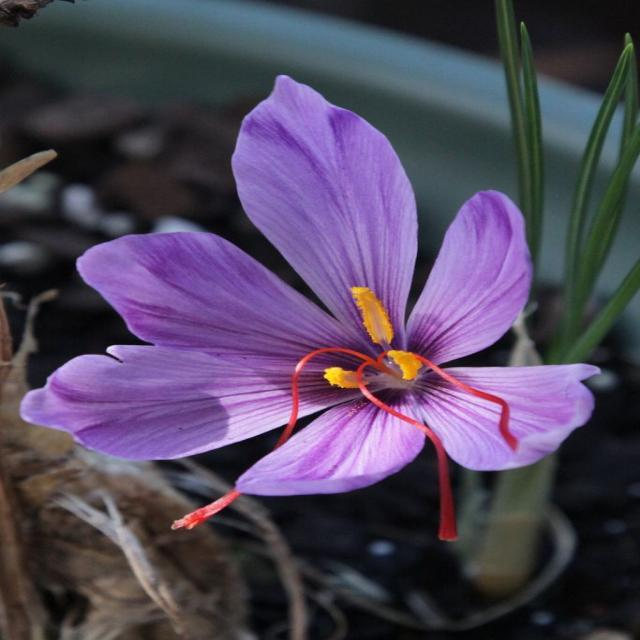Flower: (19, 72, 602, 503)
stigma: (352, 377, 455, 547), (421, 356, 520, 453), (267, 342, 333, 438), (164, 481, 238, 536)
